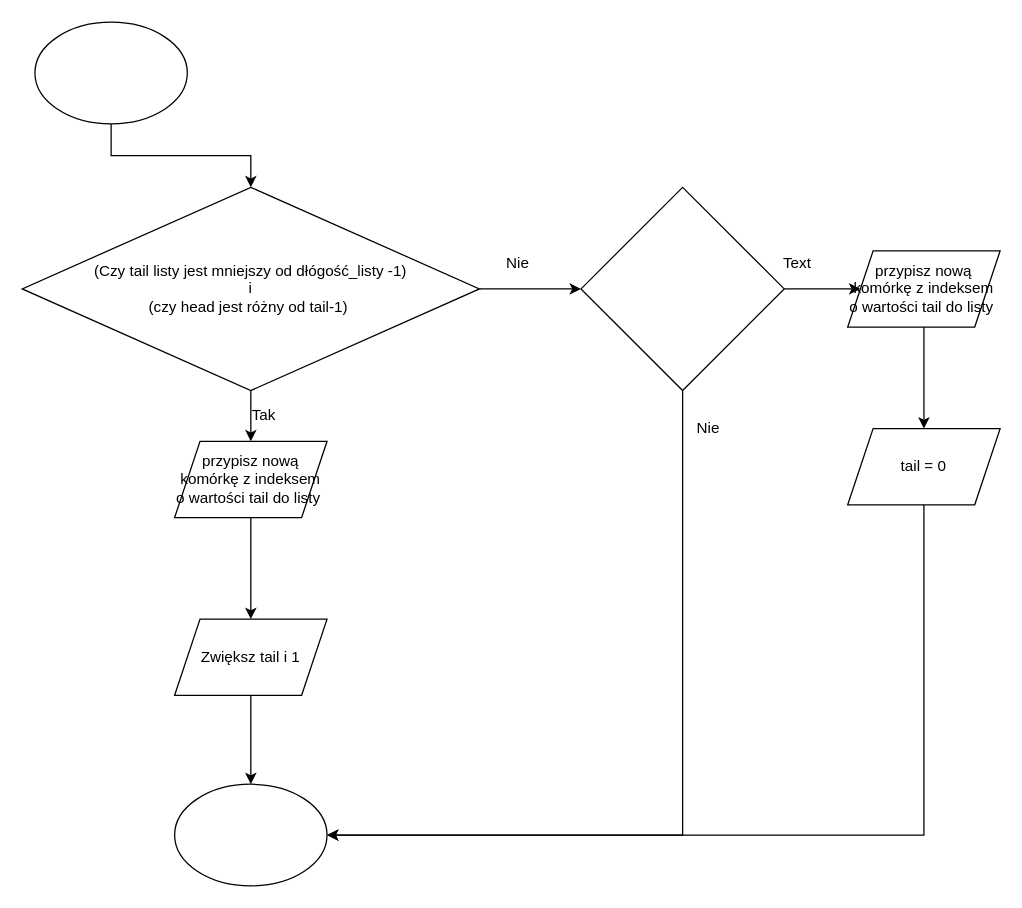
The diagram is 1022 pixels wide and 908 high, and some of its shapes have lost their labels. The shapes that lost their labels are listed below. From the top down, each one's centre as x and y in pixels, then its label:
At [110,72]: "Start".
At [682,288]: "Czy head jest rówżny od 0".
At [250,834]: "End".
